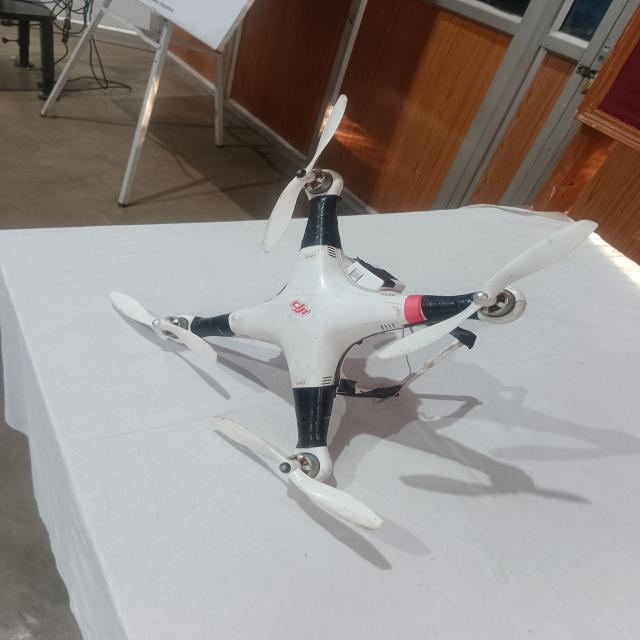drone: (84, 87, 613, 556)
